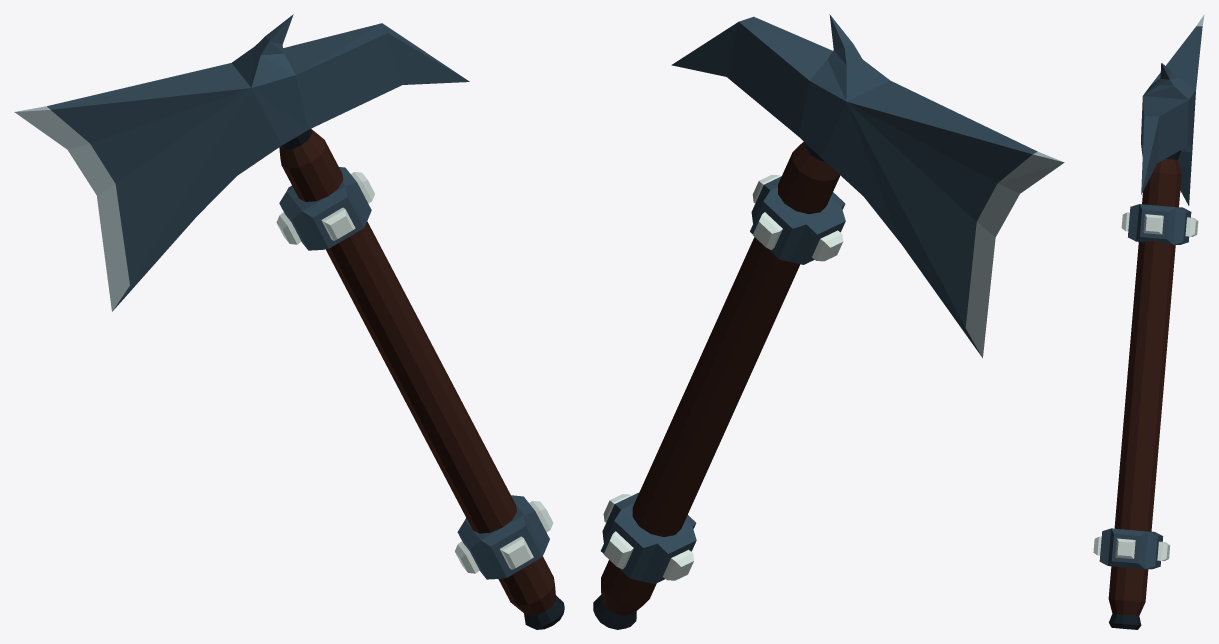
File: ascia.fbx
3 renders of one model, left to right at view 1: azimuth 30°, elevation 25°; view 2: azimuth 150°, elevation 25°; view 3: azimuth 270°, elevation 25°, orthographic. The views are drawn at different scales.
Parts seen in each view (by area): view 1: group2128284662; view 2: group2128284662; view 3: group2128284662.
Part boxes in pixels (left/top/right/bottom): group2128284662: left=14, top=14, right=564, bottom=629; group2128284662: left=593, top=14, right=1064, bottom=629; group2128284662: left=1093, top=14, right=1204, bottom=629.
Size of the model in its own units: 0.9092 by 1.14 by 0.2355.
